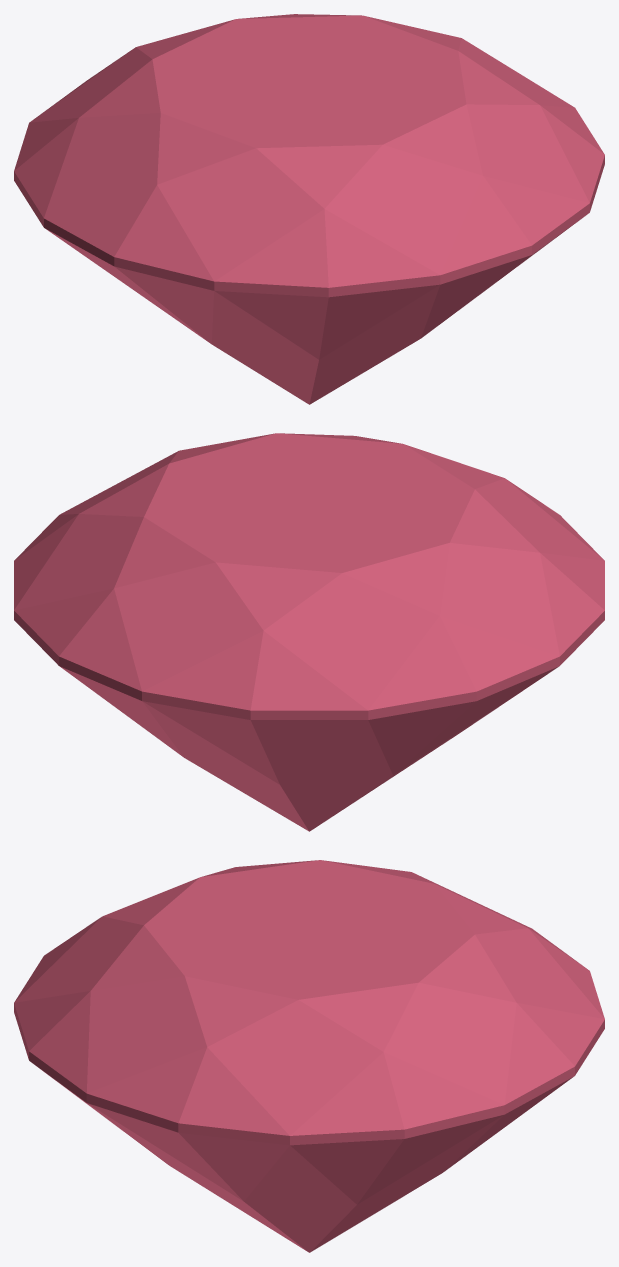
The model's file is stone-ruby.glb.
3 renders of one model, top to bottom at view 1: azimuth 30°, elevation 25°; view 2: azimuth 150°, elevation 25°; view 3: azimuth 270°, elevation 25°, orthographic.
Visible parts, largest first — view 1: Gemstone Ruby; view 2: Gemstone Ruby; view 3: Gemstone Ruby.
Part boxes in pixels (left/top/right/bottom): Gemstone Ruby: left=14, top=14, right=604, bottom=404; Gemstone Ruby: left=14, top=433, right=604, bottom=831; Gemstone Ruby: left=14, top=860, right=604, bottom=1252.
Size of the model in its own units: 2 by 1.2 by 2.
